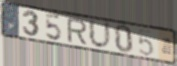0: (111, 23, 135, 54)
3: (21, 10, 40, 38)
5: (44, 12, 63, 42), (137, 28, 156, 58)
R: (66, 18, 88, 46)
U: (87, 18, 113, 51)
